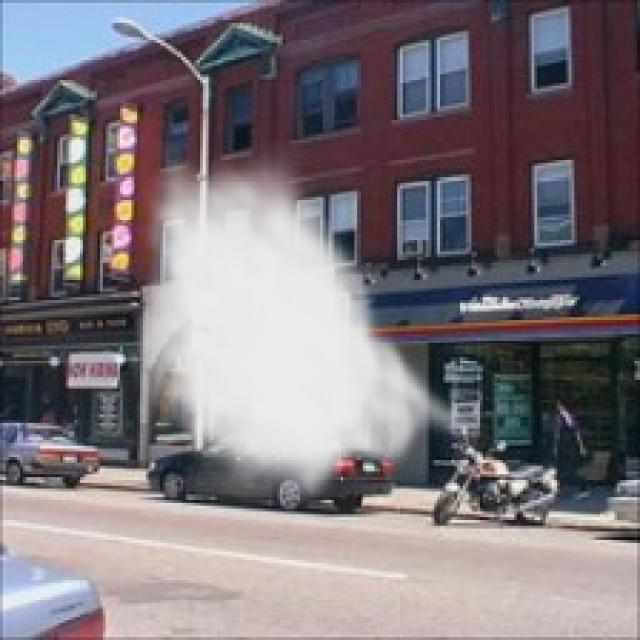smoke: (126, 140, 488, 511)
